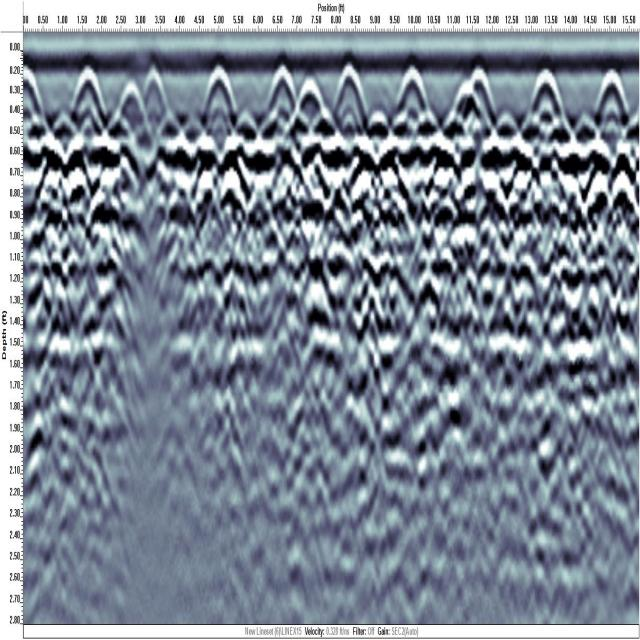hyperbola: (327, 63, 371, 131), (196, 65, 242, 128), (523, 69, 568, 131), (389, 62, 433, 122), (70, 64, 111, 128), (590, 65, 631, 128), (265, 63, 300, 124)
